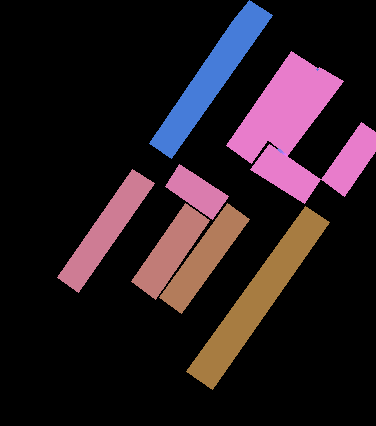parkingspot: (186, 206, 329, 389), (149, 0, 272, 158), (57, 169, 154, 292), (226, 51, 317, 163), (159, 203, 249, 313), (131, 203, 209, 299), (267, 67, 343, 155), (250, 144, 320, 203), (321, 122, 376, 196), (165, 164, 228, 219)
